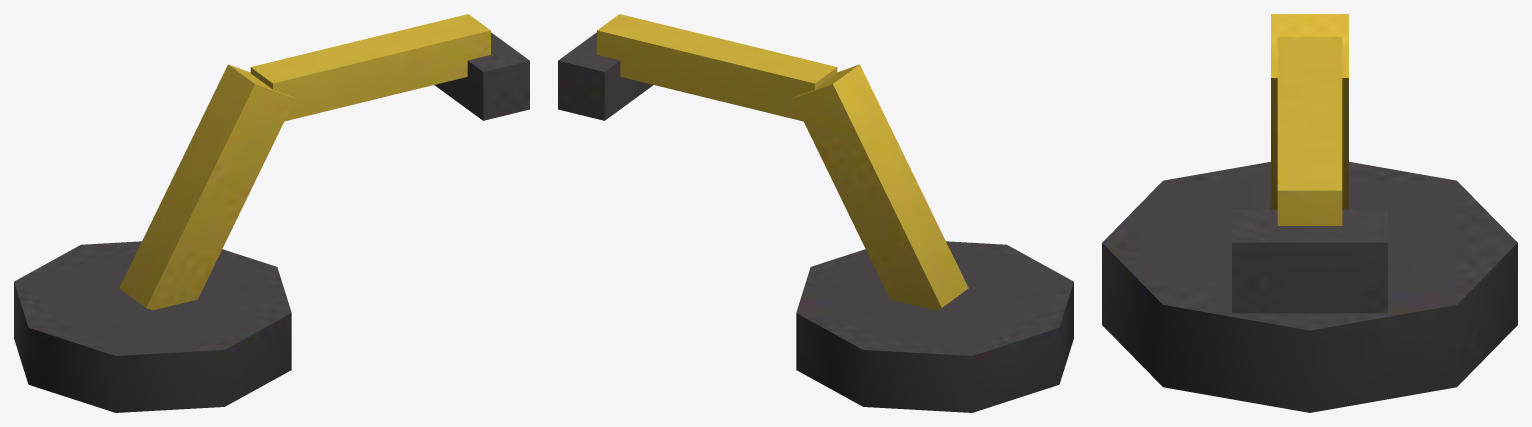
Rendered from inserter.glb.
3 renders of one model, left to right at view 1: azimuth 30°, elevation 25°; view 2: azimuth 150°, elevation 25°; view 3: azimuth 270°, elevation 25°, orthographic. The views are drawn at different scales.
Parts seen in each view (by area): view 1: inserter; view 2: inserter; view 3: inserter.
Boxes of the visible parts, box(x1,y1,x2,y2) form: inserter: box(14, 14, 529, 412); inserter: box(558, 14, 1073, 412); inserter: box(1102, 14, 1517, 412).
Bounding box in the file's own units: 0.305 × 0.1587 × 0.16.
Materials: 1 (1 with a texture image).
